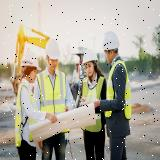Helmet: (20, 50, 41, 70), (100, 30, 120, 51), (45, 37, 61, 59), (82, 48, 99, 65)
Vest: (36, 70, 70, 134), (104, 58, 132, 122), (80, 74, 106, 132), (15, 82, 37, 148)
